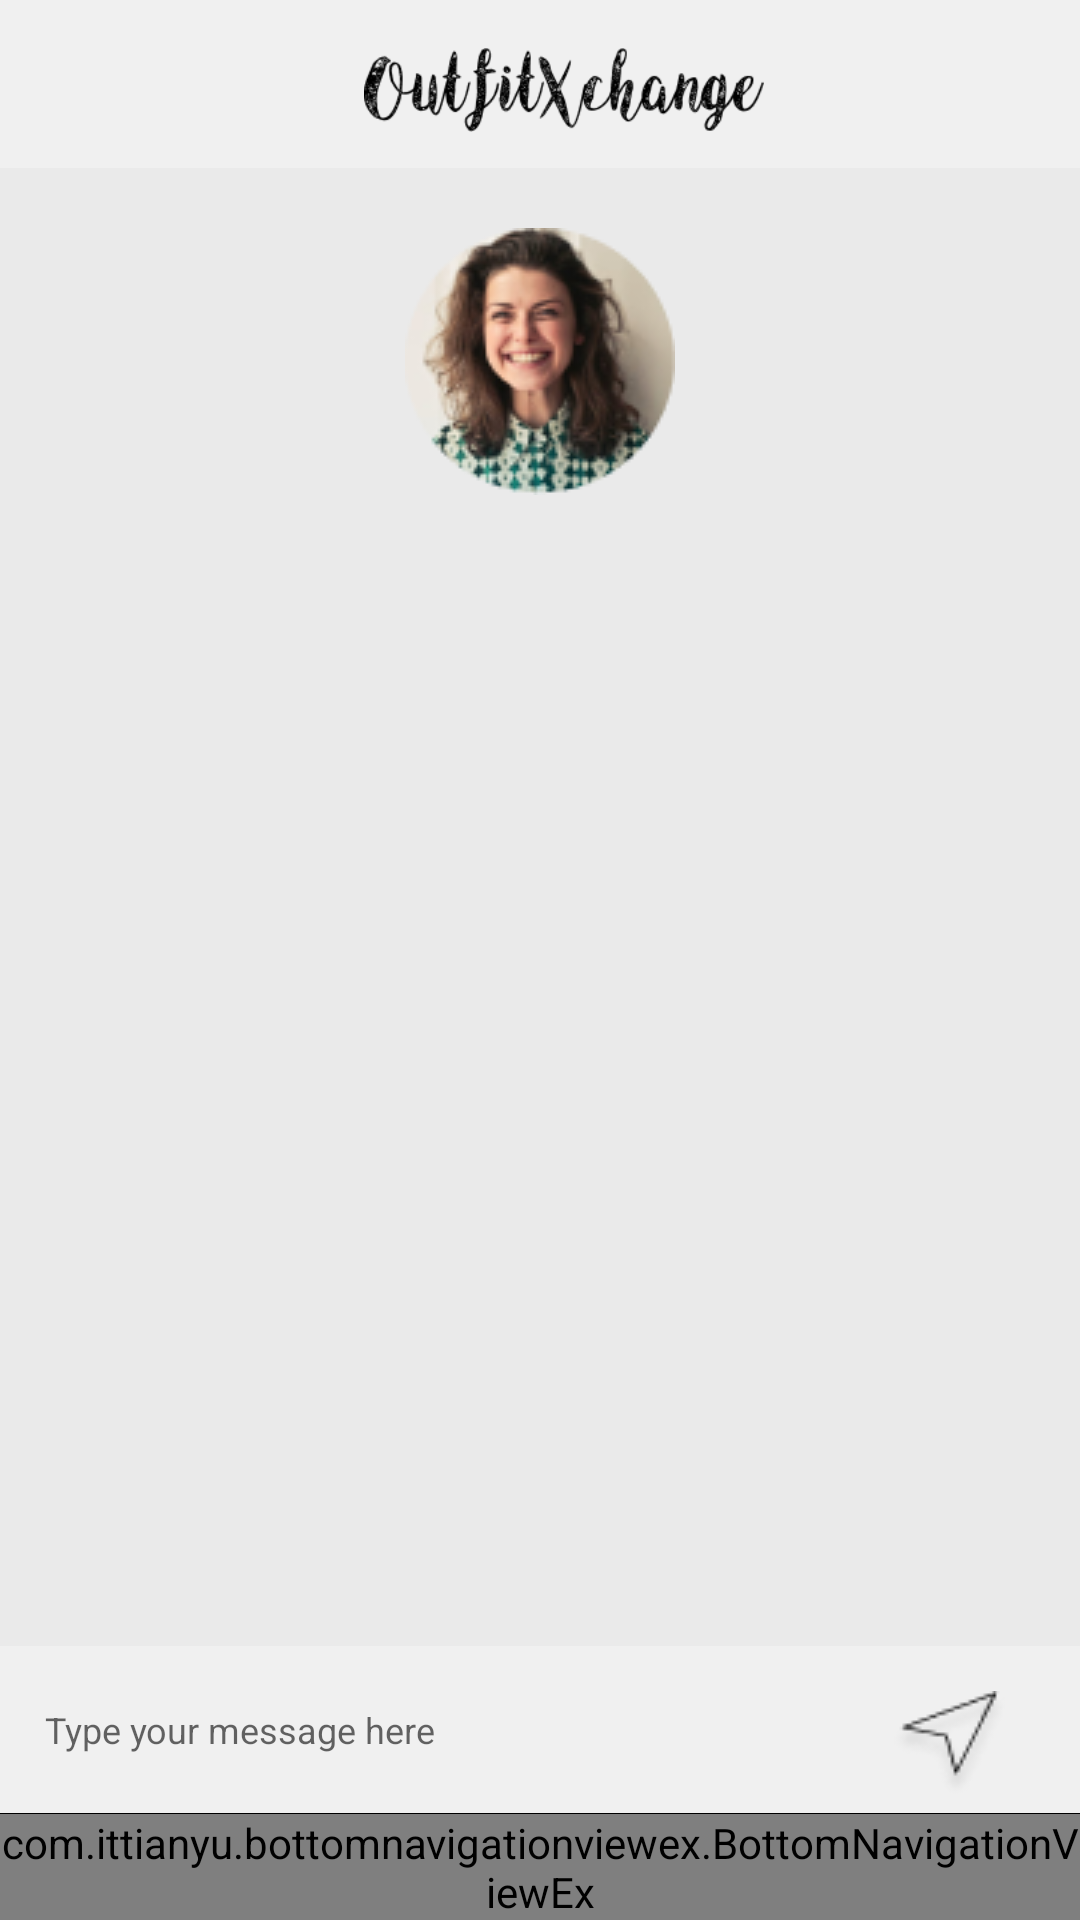

Locate icon controls on the screen. Image size 1080px×1920px, boxes as [x1,y1,x2,y2].
portrait: [422,228,675,493]
send: [902,1691,997,1776]
